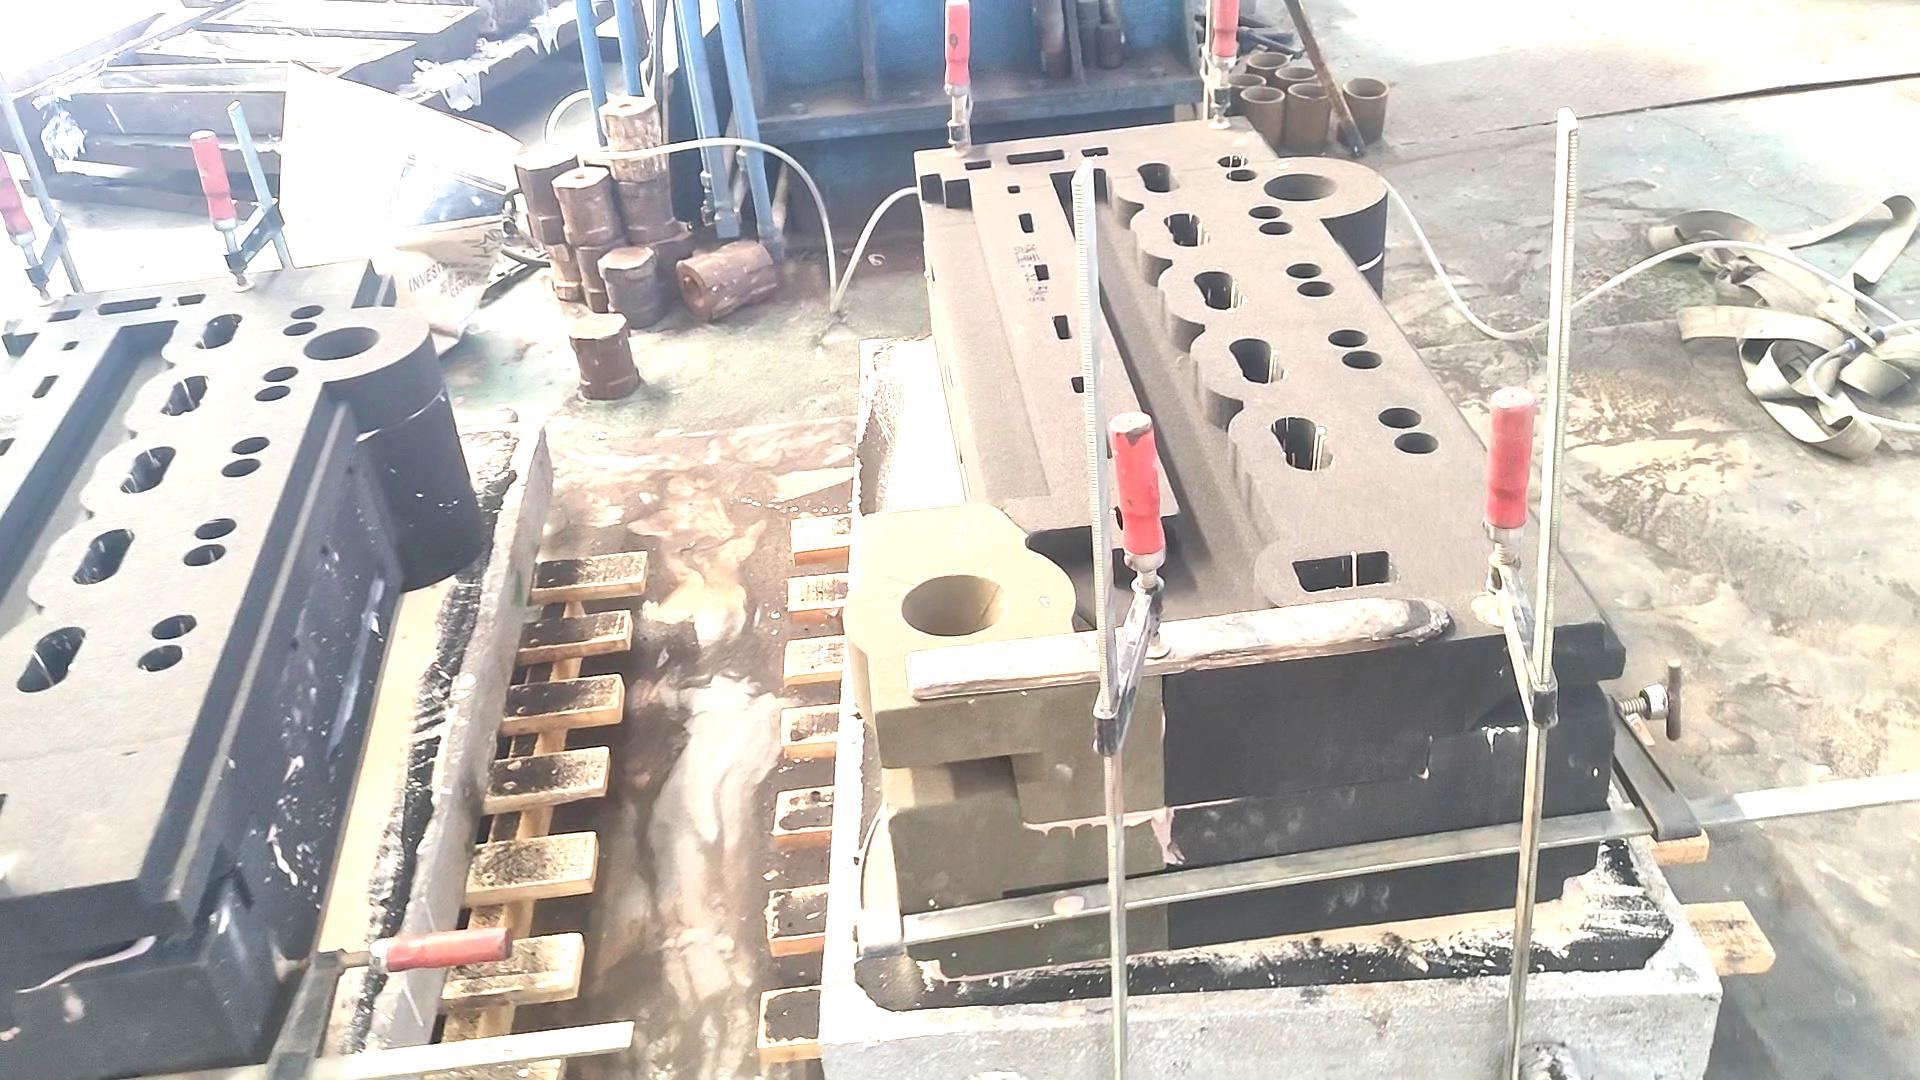pouring hole: (898, 571, 1007, 638), (302, 324, 380, 360), (1261, 171, 1338, 203), (1342, 76, 1391, 99), (1238, 84, 1286, 104), (1288, 83, 1335, 102), (1275, 66, 1320, 82), (1247, 51, 1288, 69), (1225, 73, 1266, 88)
